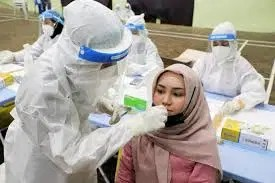Coverall: (3, 1, 159, 183)
Face_Shield: (67, 32, 134, 112), (203, 32, 241, 70), (33, 10, 60, 48)
Gloves: (122, 101, 169, 140)
mask_weared_incorrect: (149, 75, 189, 131)
with_mask: (95, 60, 122, 99), (42, 18, 56, 40)
